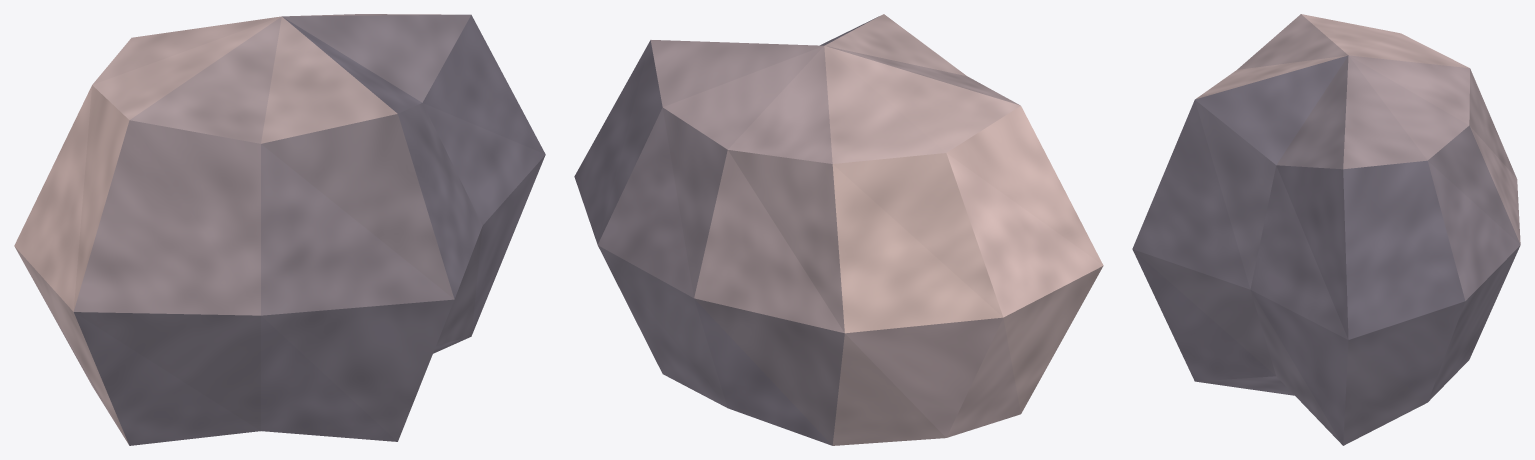
Rendered from resource_rock.glb.
3 views of the same model, side by side, from view 1: azimuth 30°, elevation 25°; view 2: azimuth 150°, elevation 25°; view 3: azimuth 270°, elevation 25° (orthographic). The views are drawn at different scales.
Parts seen in each view (by area): view 1: Abbaubarer Stein; view 2: Abbaubarer Stein; view 3: Abbaubarer Stein.
Boxes of the visible parts, x1=… form: Abbaubarer Stein: x1=14, y1=14, x2=545, y2=445; Abbaubarer Stein: x1=574, y1=14, x2=1103, y2=445; Abbaubarer Stein: x1=1132, y1=14, x2=1520, y2=445.
Bounding box in the file's own units: 1.62 × 1.22 × 1.23.
Materials: 1 (1 with a texture image).
